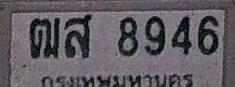4: (171, 16, 191, 54)
6: (197, 16, 218, 54)
8: (117, 16, 138, 56)
9: (144, 16, 165, 56)
A18: (29, 17, 60, 58)
A40: (64, 14, 91, 58)
